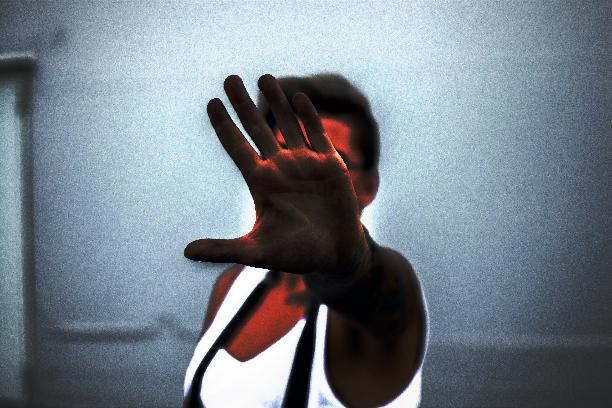Paper: (180, 71, 365, 278)
